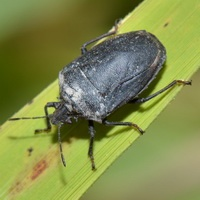insect: (0, 119, 138, 199), (15, 80, 57, 116)
